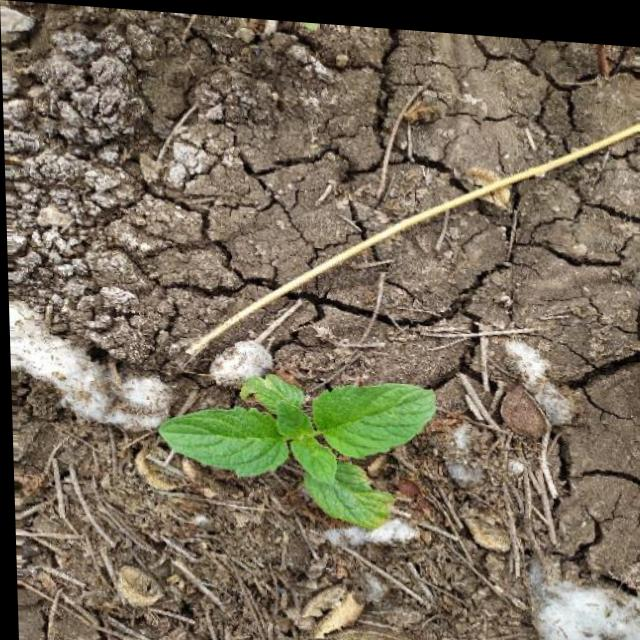crop: (151, 355, 458, 538)
